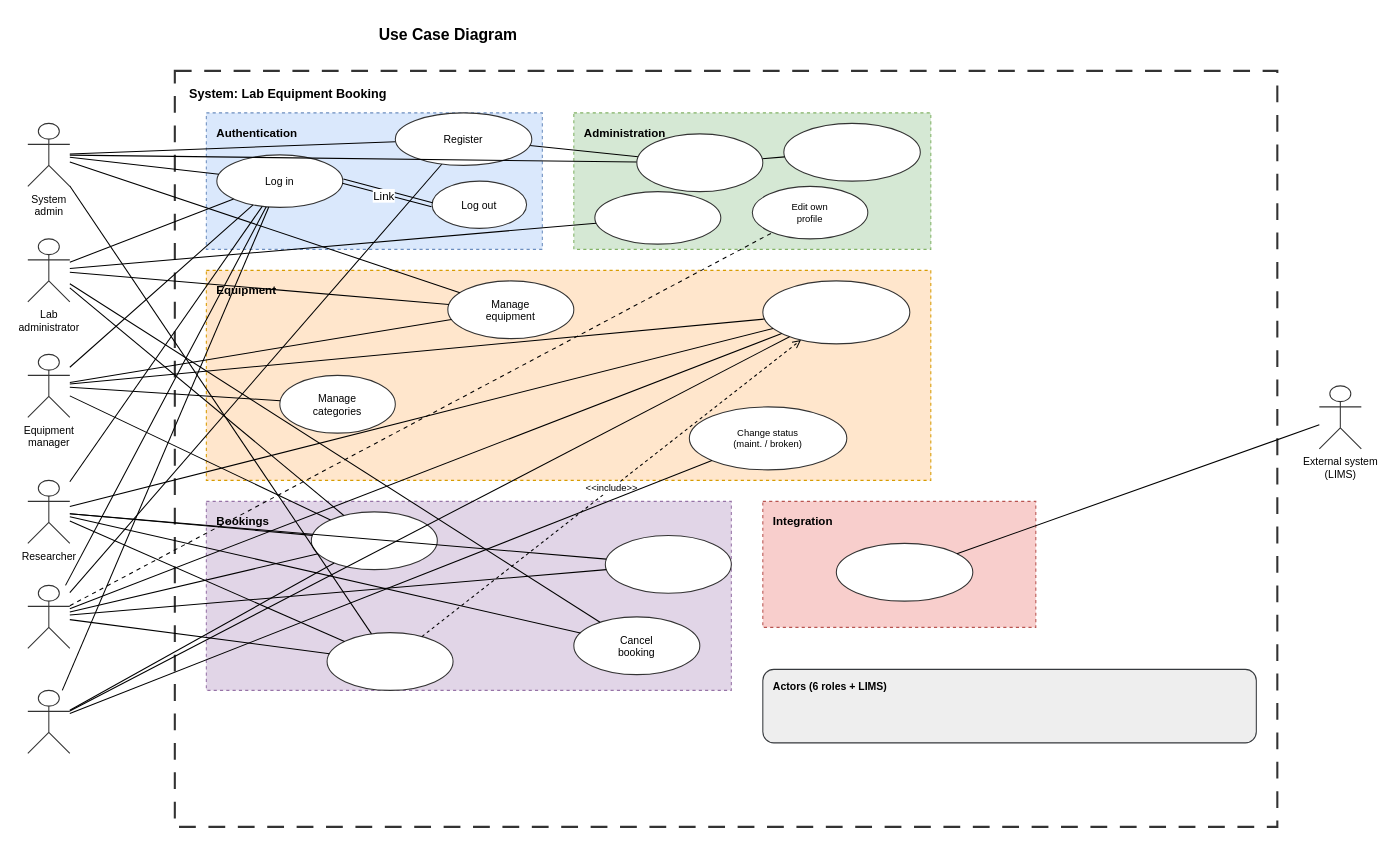
Some shapes in this 1395 by 845 pixel diagram are drawn without their labels. Here are the shapes that lost their labels. From the top down, the centre of each, then its label:
(699,162): Manage organizations
(851,151): Manage users (all orgs)
(657,217): Manage lab users
(836,312): View equipment catalog
(373,540): View bookings
(667,563): Update booking
(904,571): REST API data access
(48,616): Student
(389,661): Create booking
(48,721): Technician
